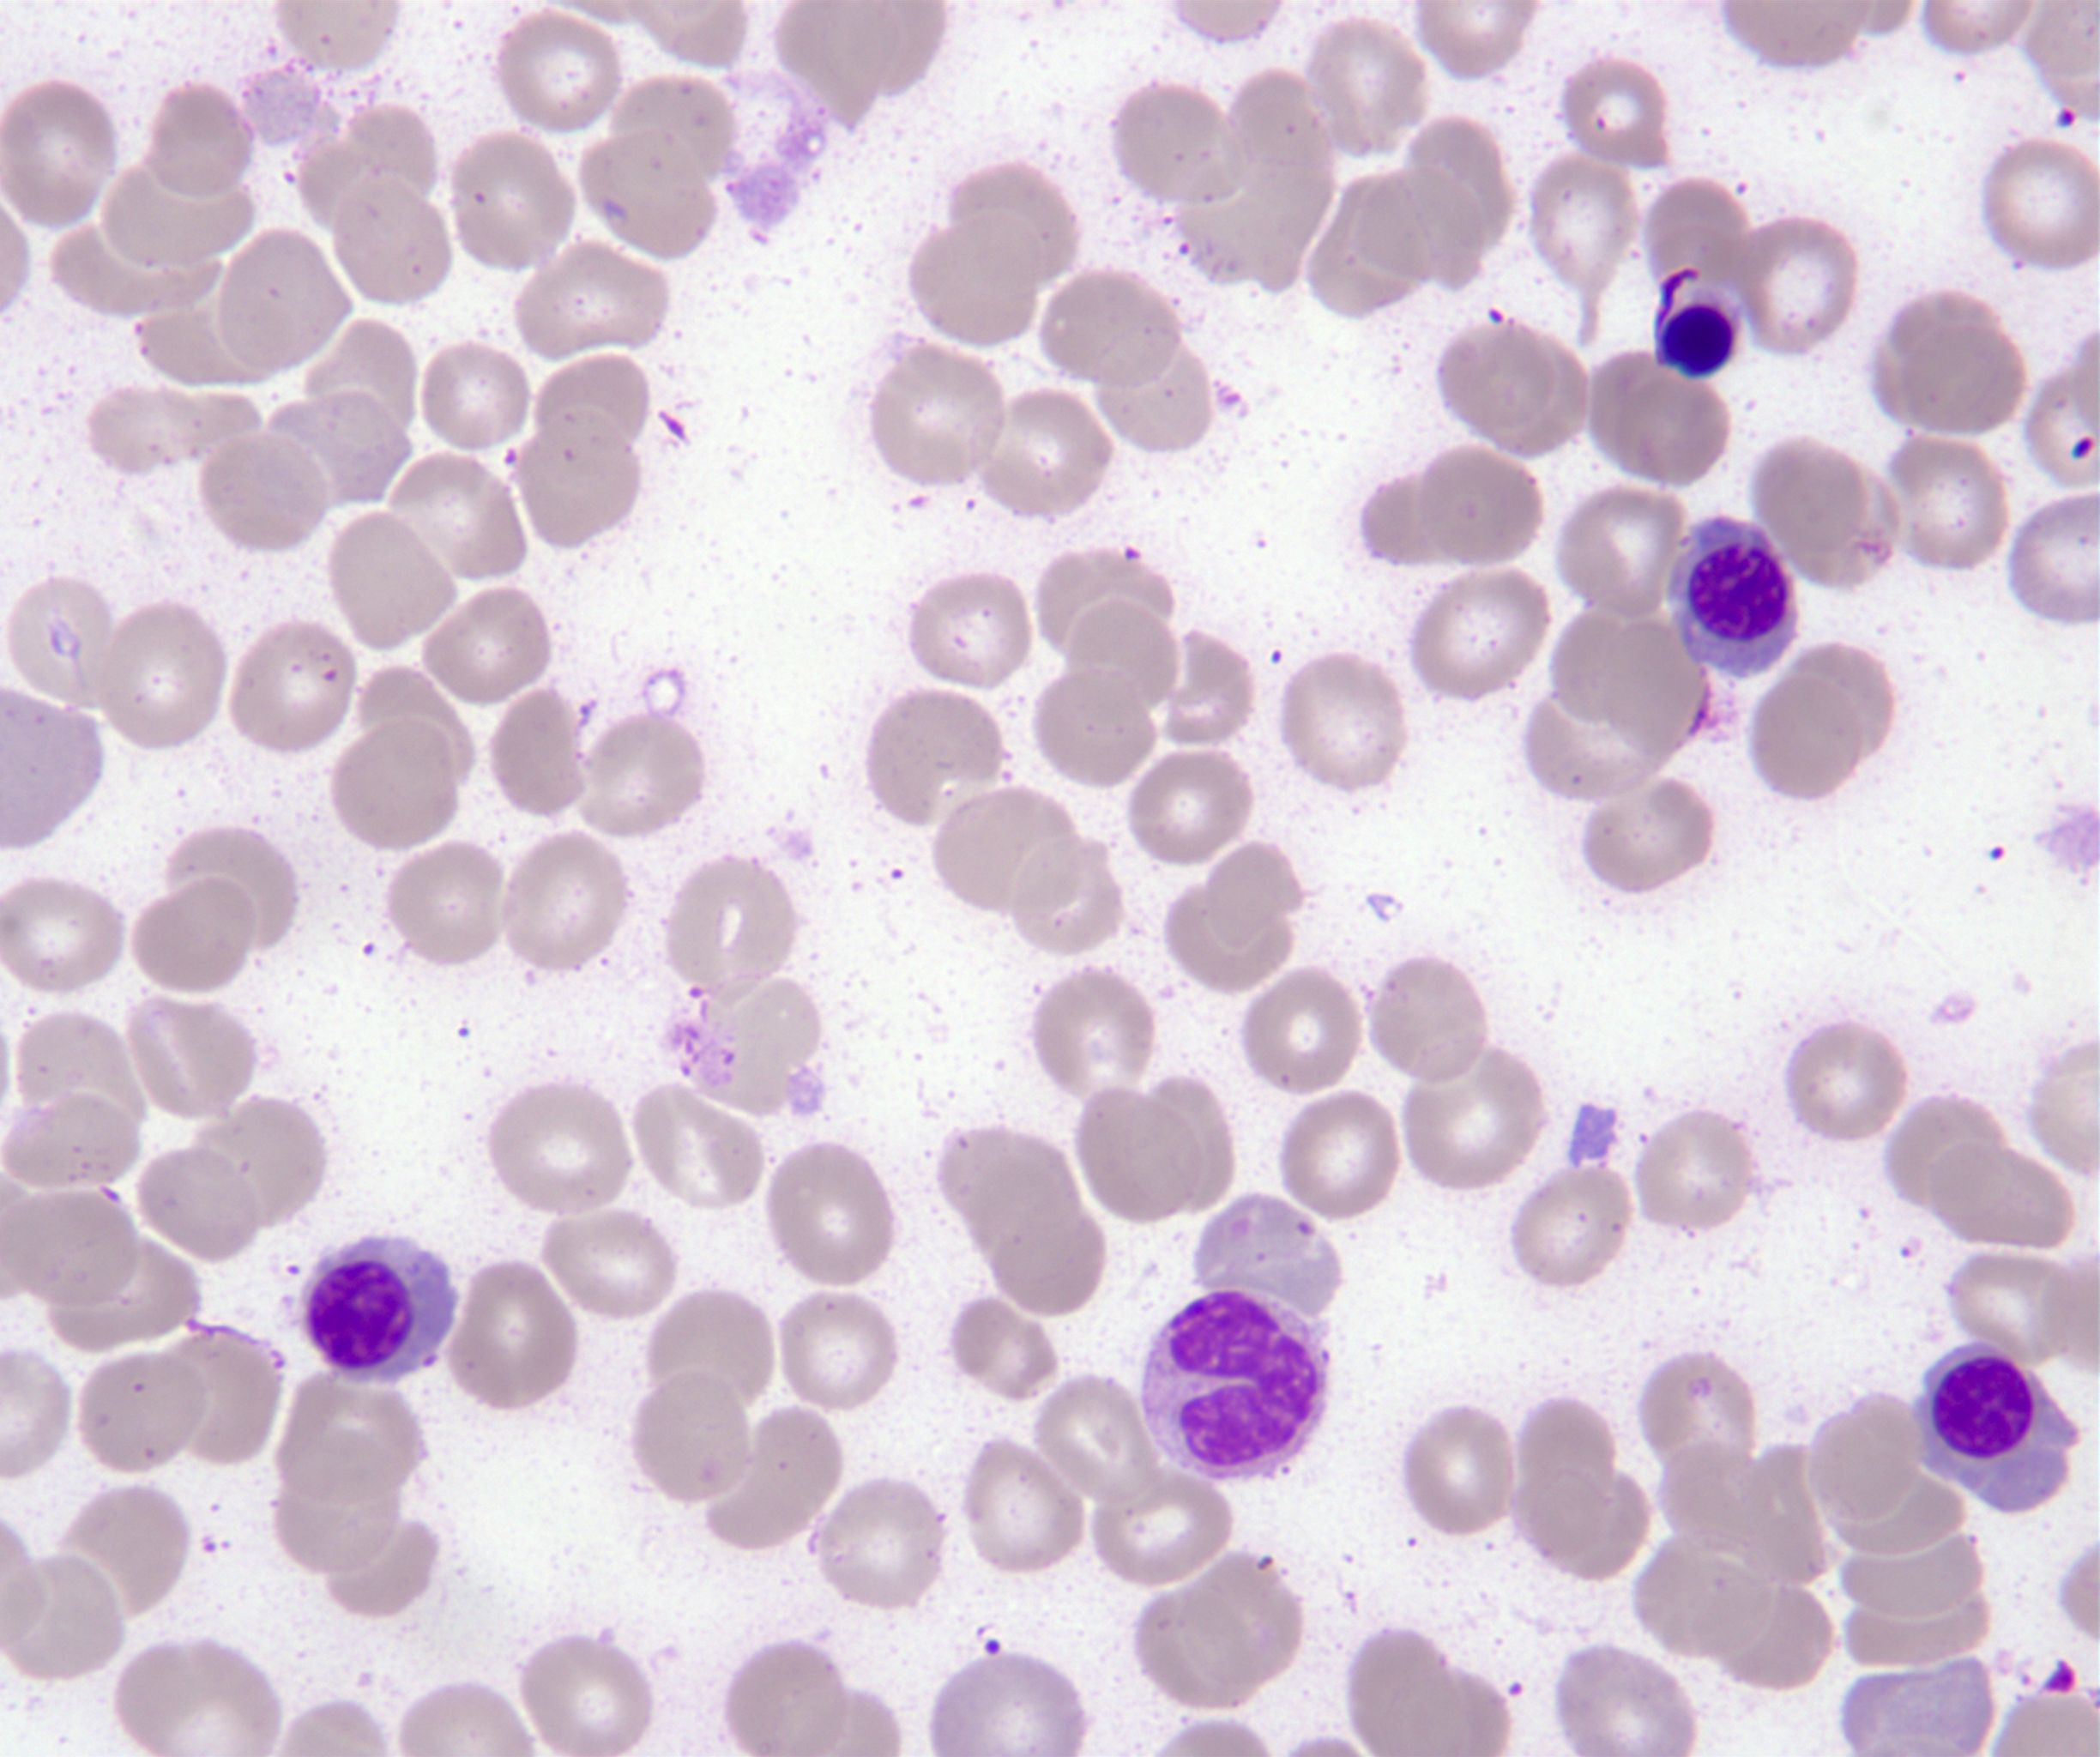23: (303, 1235, 457, 1385), (1669, 516, 1797, 673)
24: (1915, 1342, 2077, 1513)
5: (1144, 1289, 1326, 1480)
x: (1652, 265, 1737, 375)
